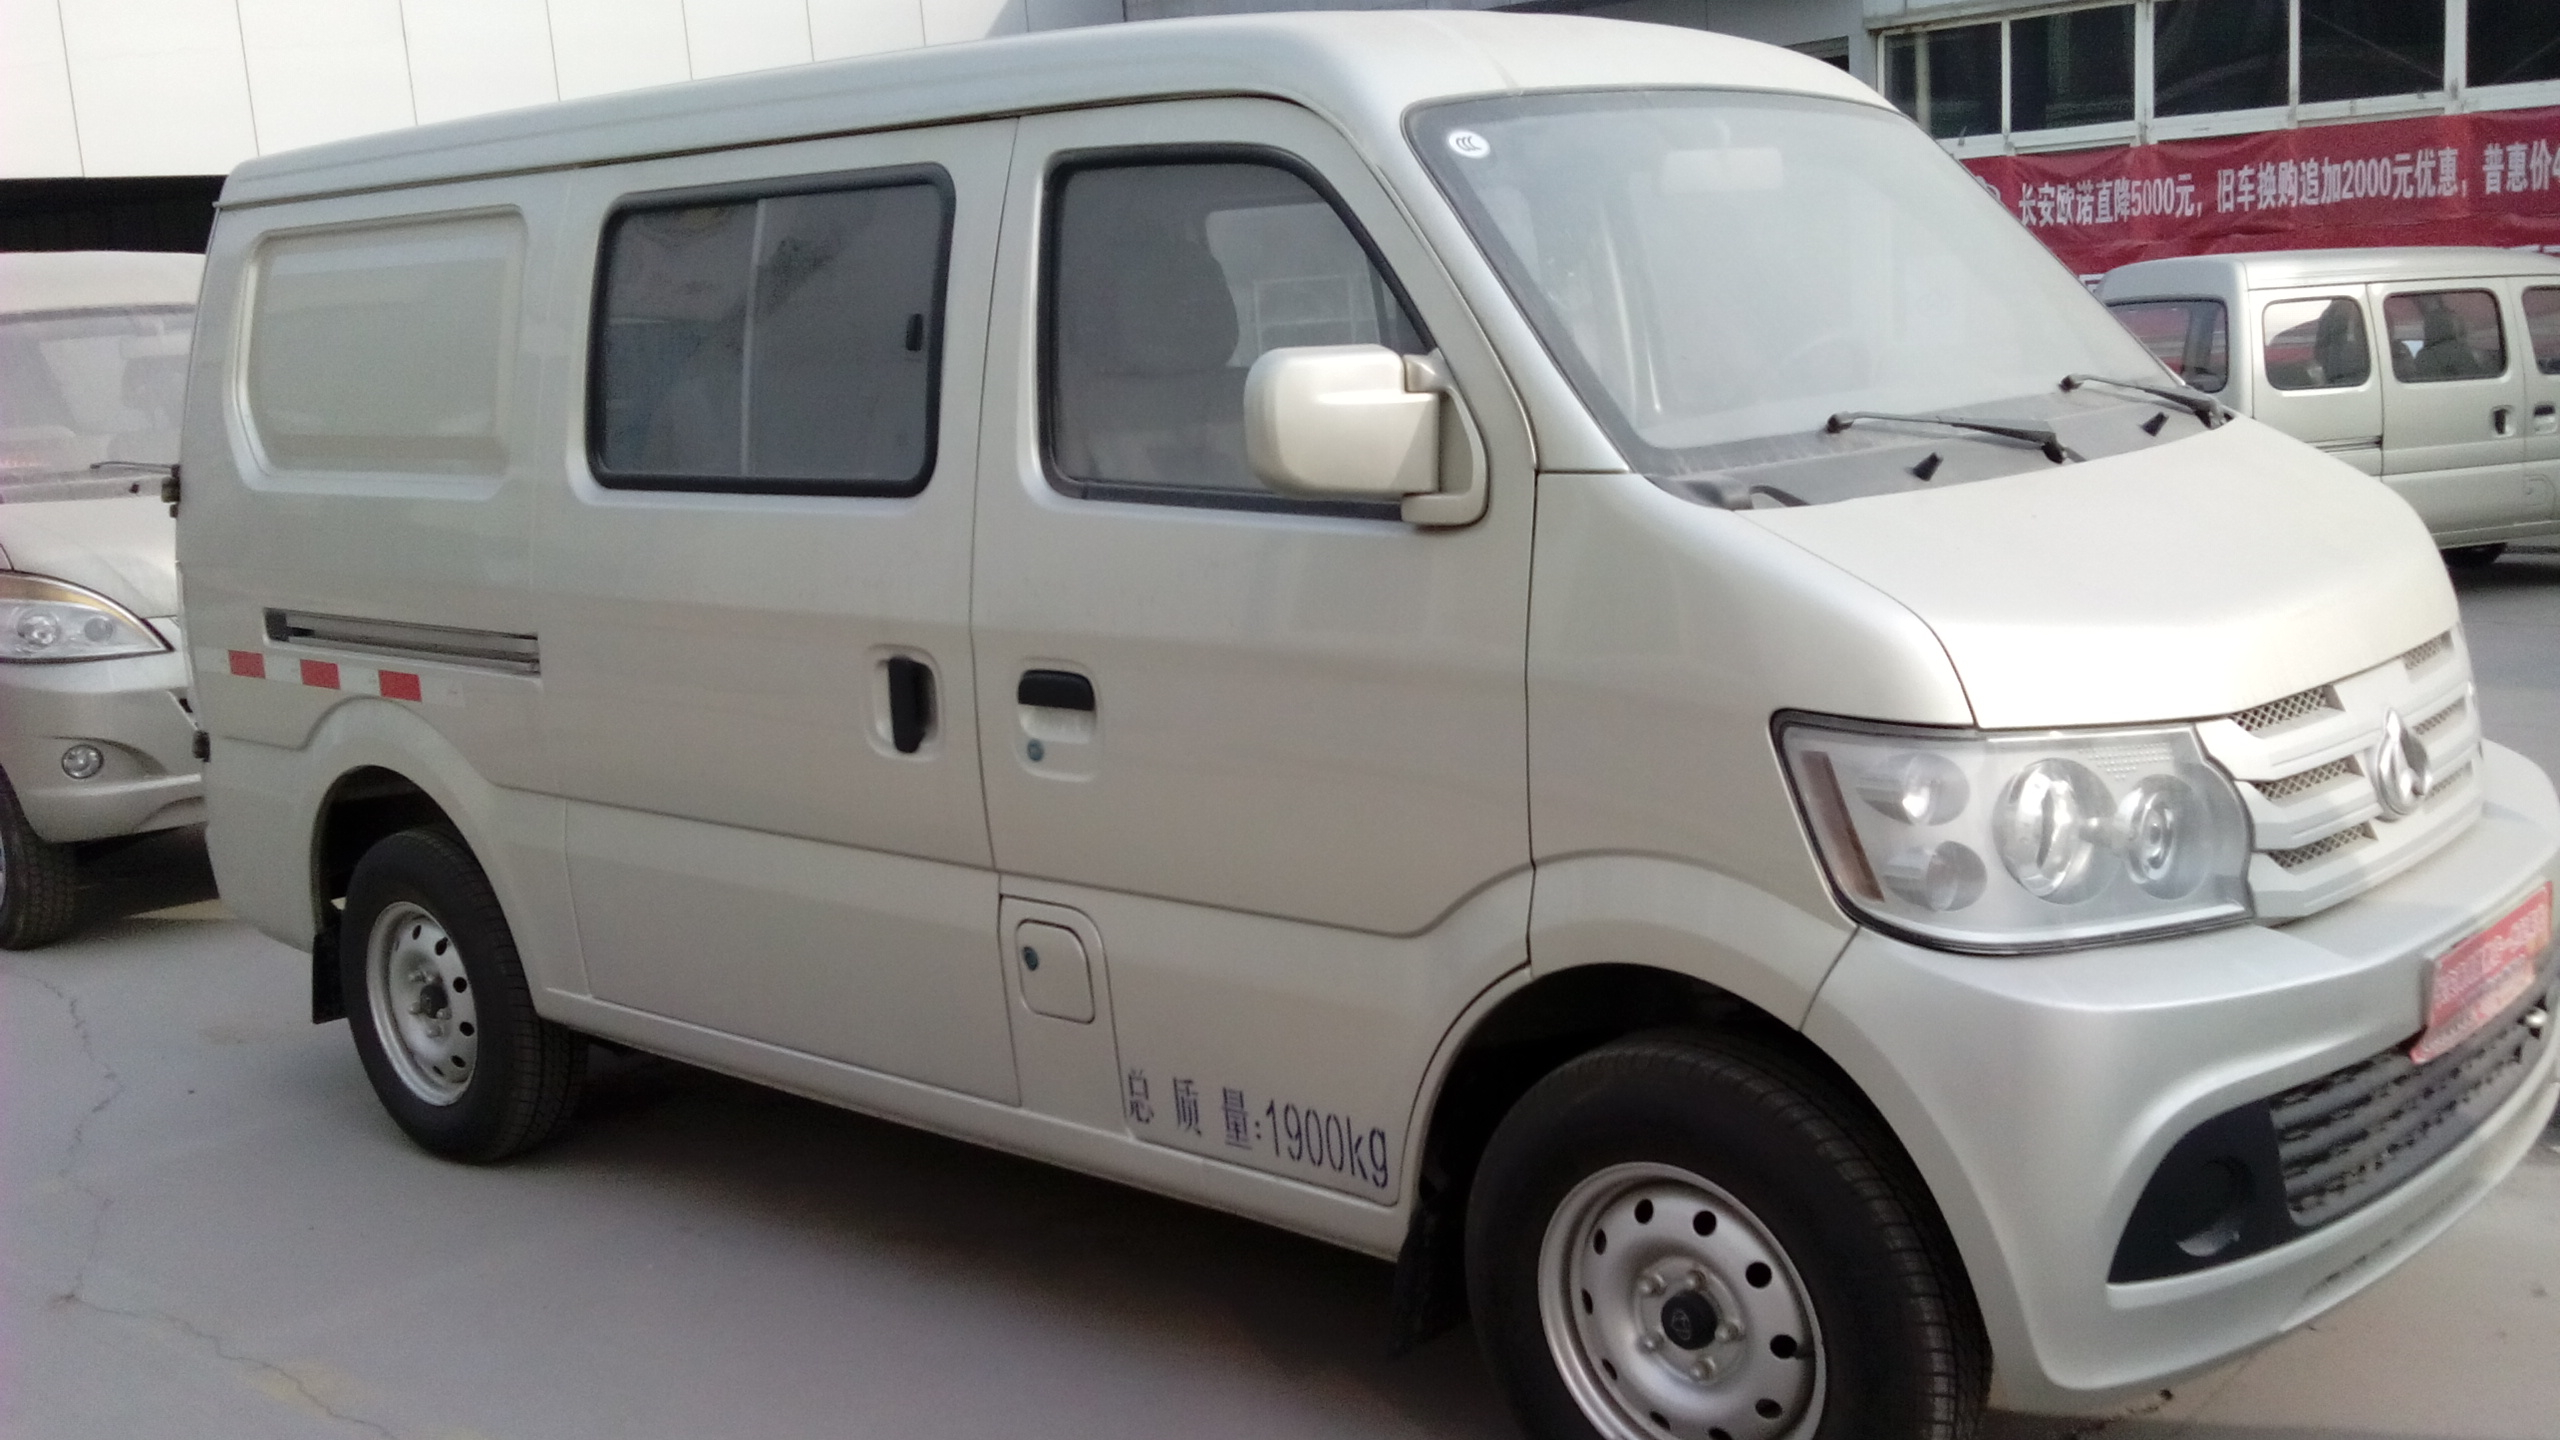Mini_bus: (176, 12, 2553, 1428)
